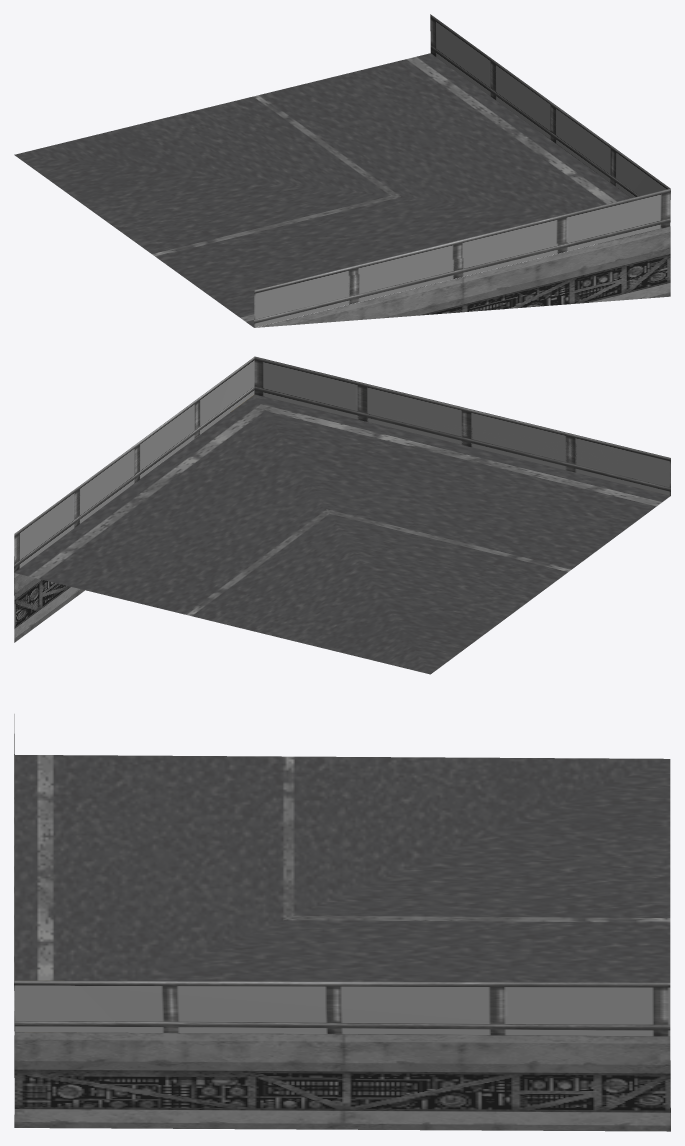
File: Title04a.fbx
The picture shows the model from 3 angles, top to bottom: view 1: azimuth 30°, elevation 25°; view 2: azimuth 150°, elevation 25°; view 3: azimuth 270°, elevation 25°; orthographic projection. The views are drawn at different scales.
Visible parts, largest first — view 1: polySurface10409; view 2: polySurface10409; view 3: polySurface10409.
Boxes of the visible parts, x1=… form: polySurface10409: x1=14, y1=14, x2=670, y2=327; polySurface10409: x1=14, y1=356, x2=670, y2=674; polySurface10409: x1=14, y1=714, x2=670, y2=1131.
Size of the model in its own units: 1 by 0.2536 by 1.
